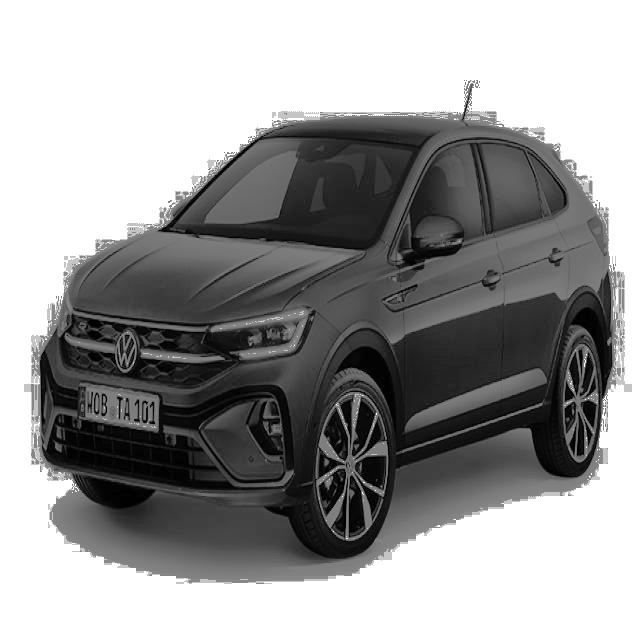Car: (29, 76, 619, 564)
